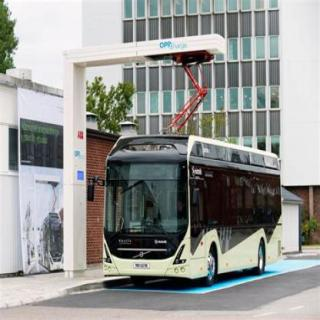Normal_vehicle: (70, 117, 296, 300)
